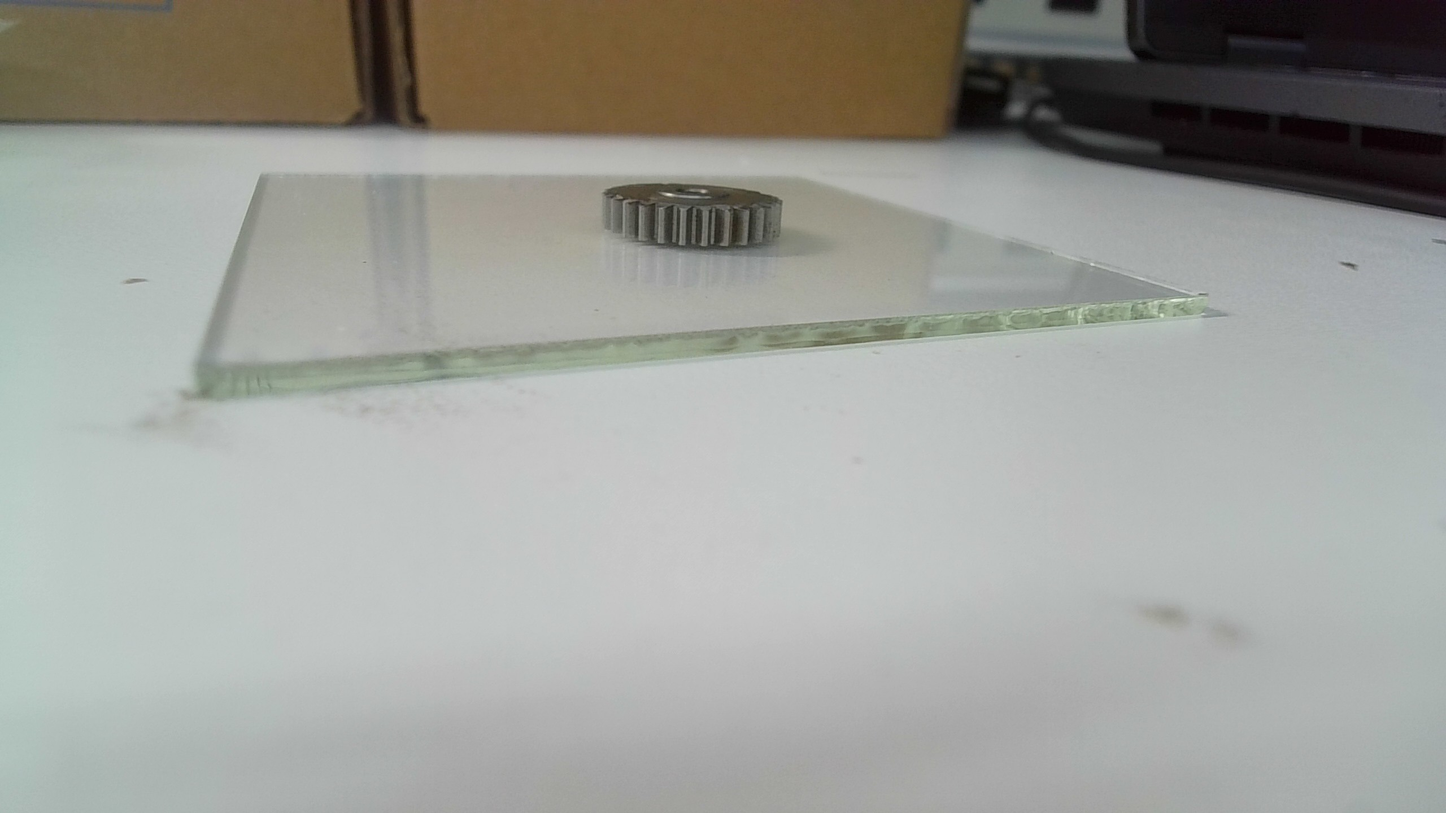gear: (598, 179, 786, 252)
